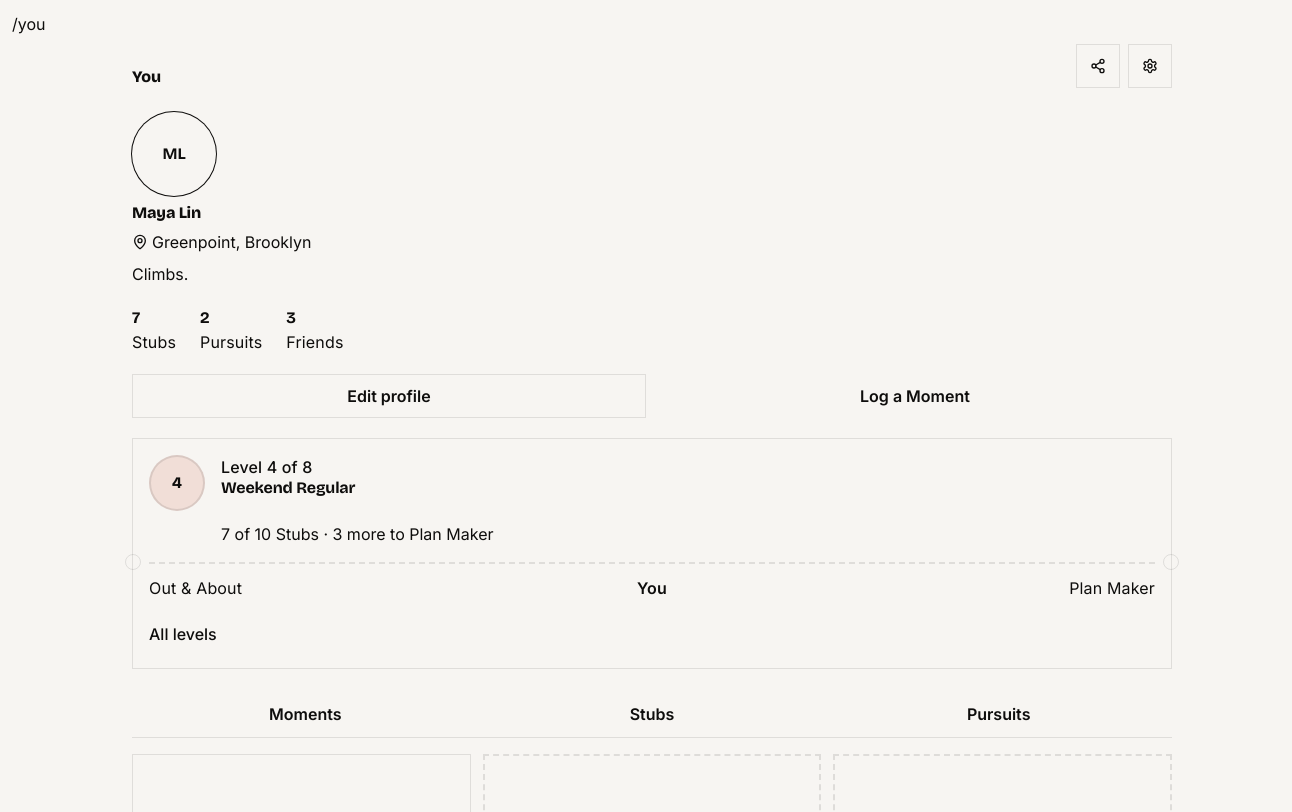
Test: Profile tabs › switches tabs, keeps the tab in the URL and answers arrow keys
Press the mouse on the tab "Stubs": (652, 715) [479,693,825,737]
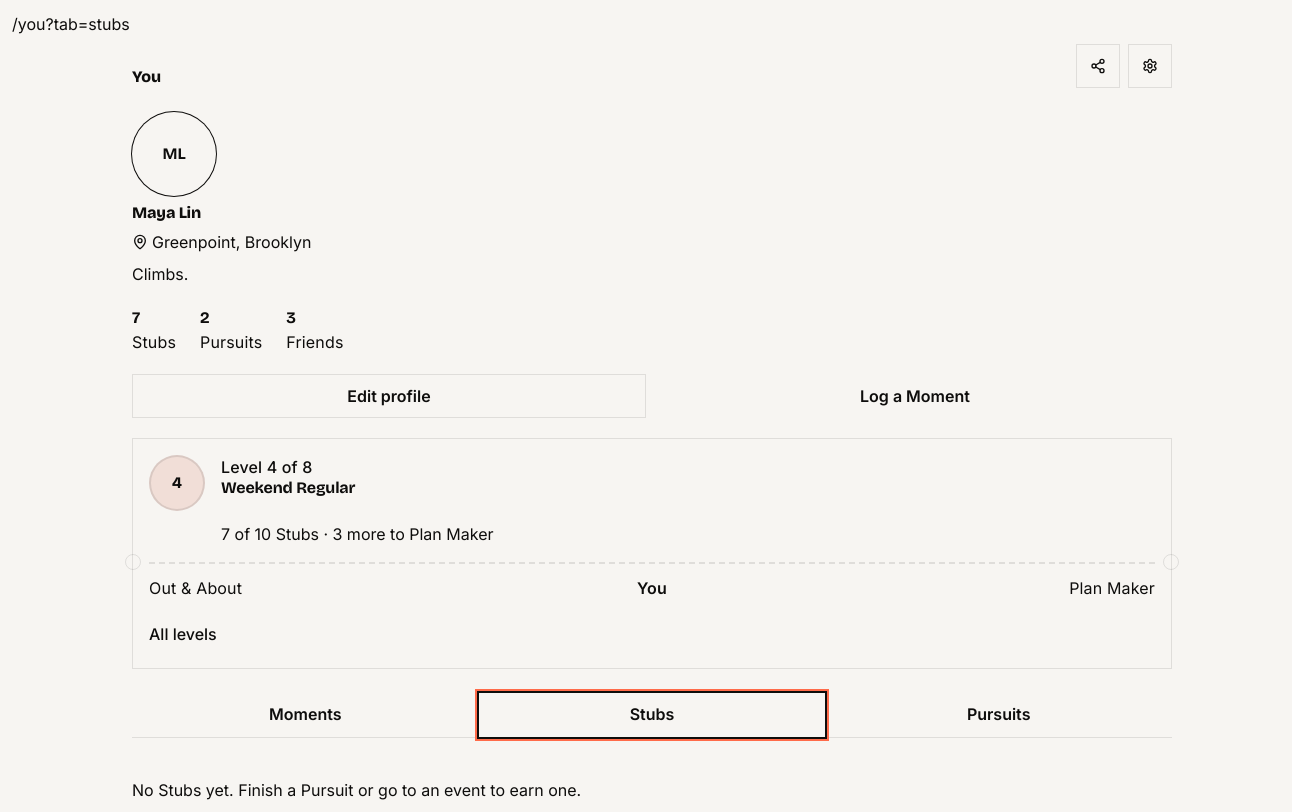
Result: the text with test id "where" reads "/you?tab=stubs" at [12,14,130,34]
Result: the text "No Stubs yet. Finish a Pursuit or go to an event to earn one." is shown at [132,780,581,800]
Press ArrowRight in the tab "Stubs", box [479,693,825,737]
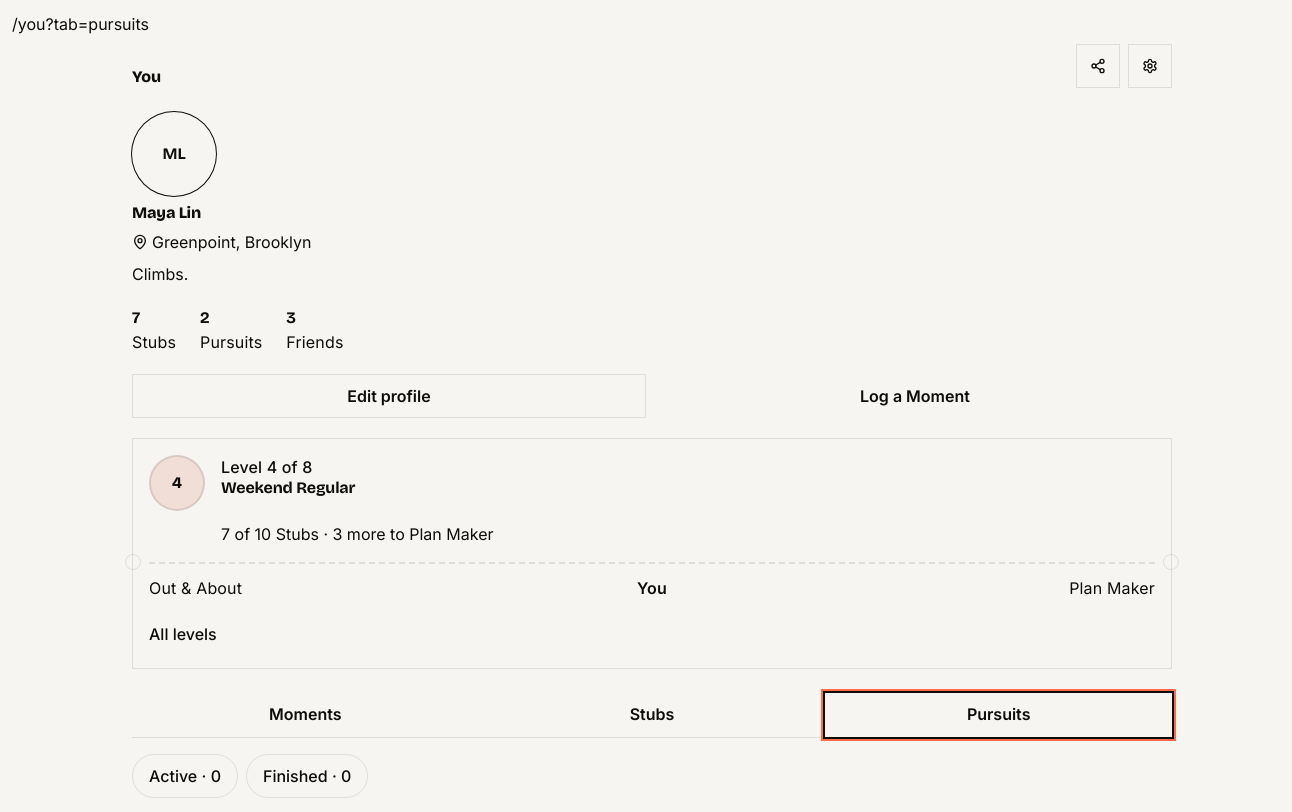
Result: the text with test id "where" reads "/you?tab=pursuits" at [12,14,149,34]
